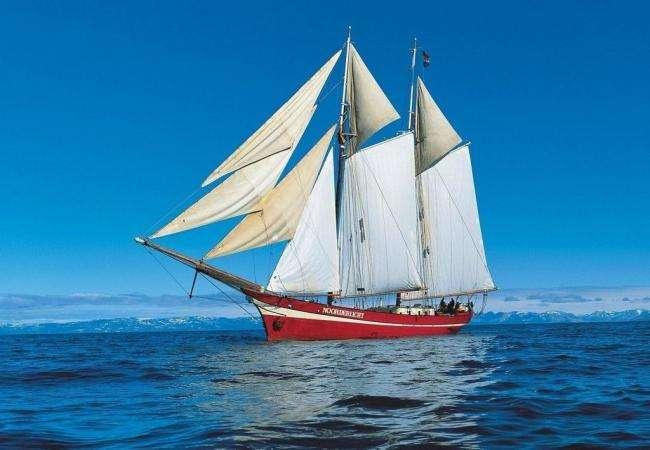fanchuan: (119, 26, 504, 342)
